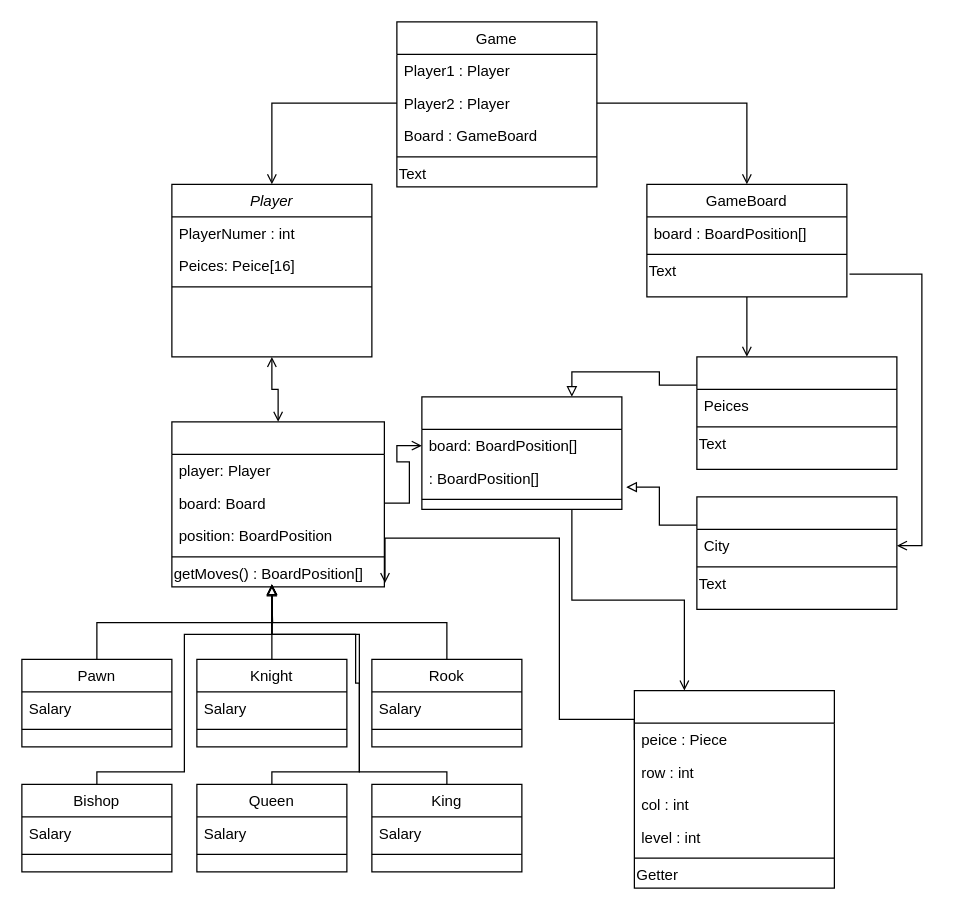
Image size: 954x910. Some labels were removed from this diagram. The box of each missing label's shape, as (x1, y1, x2, y2) in pixels:
Board (abstract): (421, 396, 622, 509)
BoardPosition: (633, 689, 834, 888)
MoveableBoard: (696, 496, 897, 609)
Piece (abstract): (171, 421, 384, 587)
StaticBoard: (696, 356, 897, 469)
